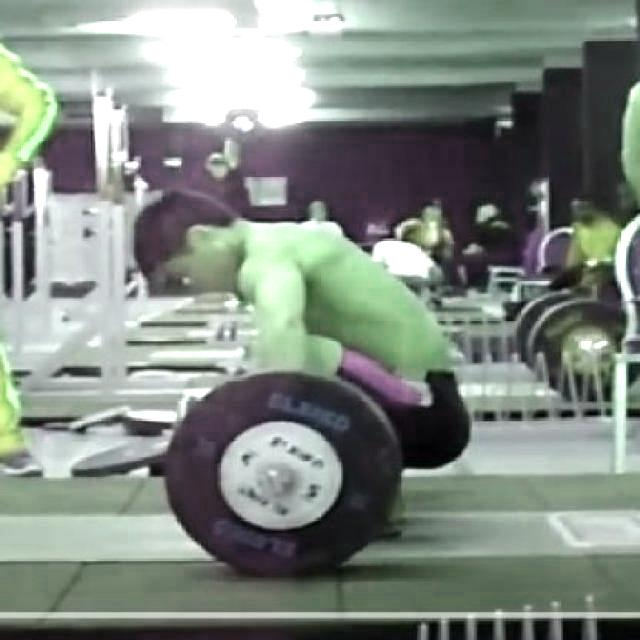barbell: (160, 360, 414, 584)
